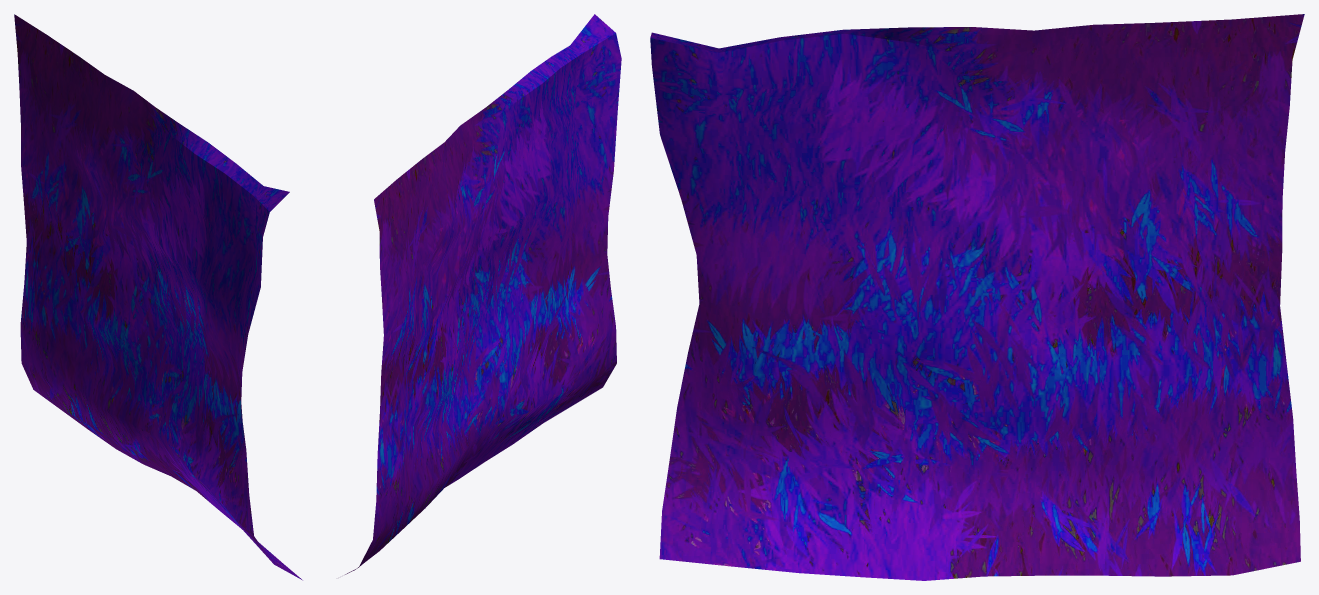
File: wall.glb
3 renders of one model, left to right at view 1: azimuth 30°, elevation 25°; view 2: azimuth 150°, elevation 25°; view 3: azimuth 270°, elevation 25°, orthographic. The views are drawn at different scales.
Parts seen in each view (by area): view 1: cave-wall_low; view 2: cave-wall_low; view 3: cave-wall_low.
Part boxes in pixels (x1,y1,x2,y2): cave-wall_low: [14, 14, 302, 580]; cave-wall_low: [345, 14, 621, 574]; cave-wall_low: [650, 14, 1304, 580].
Bounding box in the file's own units: 0.1764 × 1.05 × 1.18.
Materials: 1 (1 with a texture image).
